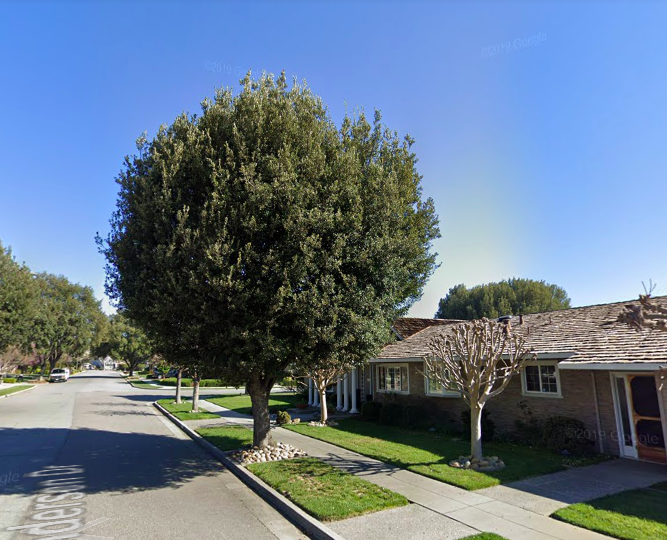tree: (93, 66, 442, 450)
